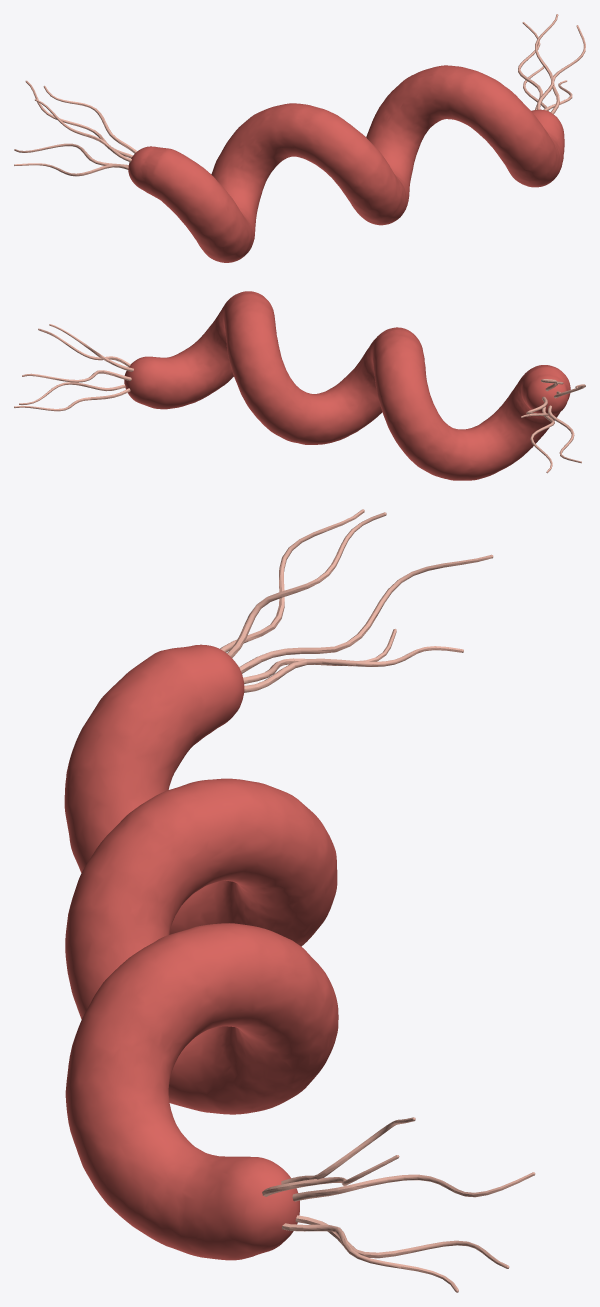
File: spiral-bacterium.glb
3 views of the same model, one above another, from view 1: azimuth 30°, elevation 25°; view 2: azimuth 150°, elevation 25°; view 3: azimuth 270°, elevation 25° (orthographic). The views are drawn at different scales.
Visible parts, largest first — view 1: Spiral_Bacterium; view 2: Spiral_Bacterium; view 3: Spiral_Bacterium.
Boxes of the visible parts, left/top/right/bottom form: Spiral_Bacterium: left=14, top=14, right=585, bottom=262; Spiral_Bacterium: left=14, top=291, right=585, bottom=480; Spiral_Bacterium: left=64, top=509, right=535, bottom=1292.
Size of the model in its own units: 1.11 by 0.3107 by 0.4117.
